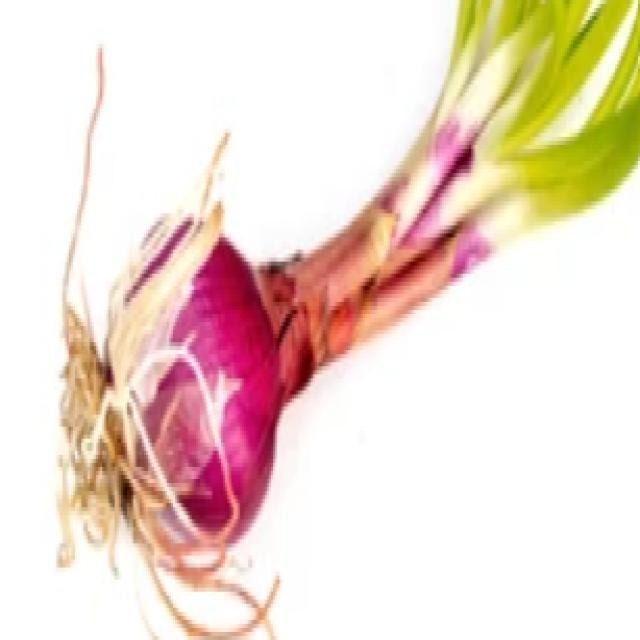sprouting: (294, 0, 640, 391)
